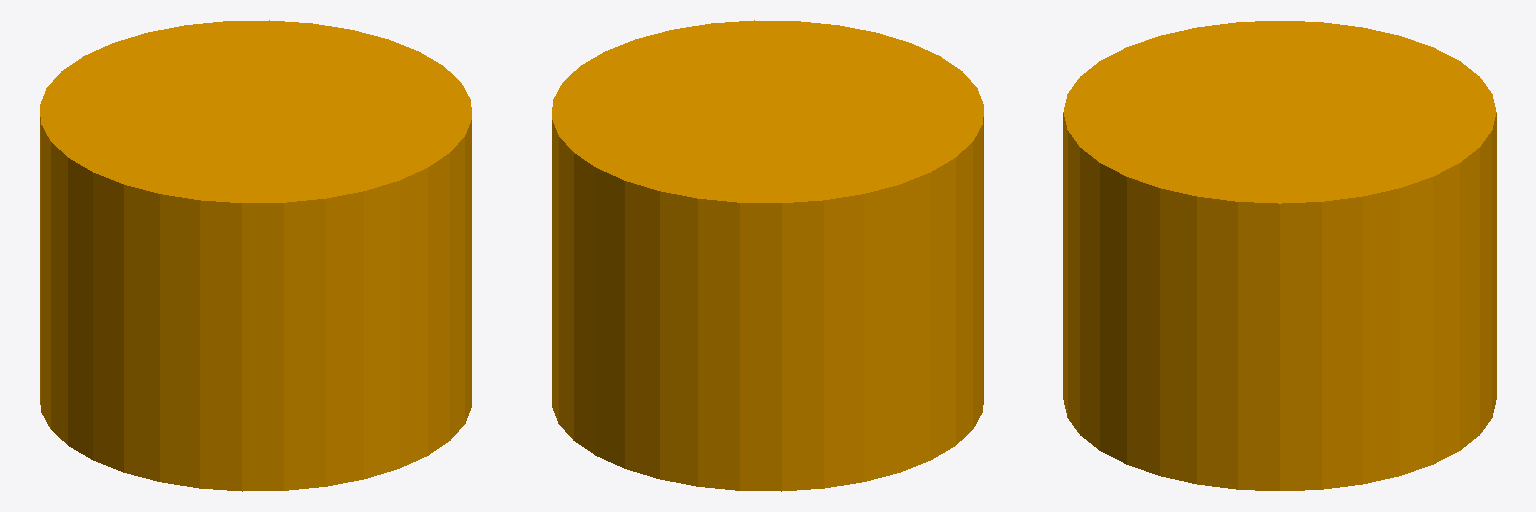
robot.urdf — small_box_chair:
<?xml version="1.0" ?>
<robot name="small_box_chair">
    <link name="baseLink">
        <contact>
            <lateral_friction value="1.0"/>
            <rolling_friction value="0.0"/>
            <contact_cfm value="0.0"/>
            <contact_erp value="1.0"/>
        </contact>
        <inertial>
            <origin rpy="0 0 0" xyz="0 0 0"/>
            <mass value="1.0"/>
            <inertia ixx="1" ixy="0" ixz="0" iyy="1" iyz="0" izz="1"/>
        </inertial>
        <visual>
            <origin rpy="0 0 0" xyz="1.55 -0.73 0.11"/>
            <geometry>
                <!-- <box size="6 6 1"/> -->
                <cylinder radius="0.15" length="0.22"/>
            </geometry>
        </visual>
        <collision>
            <origin rpy="0 0 0" xyz="1.55 -0.73 0.11"/>
            <geometry>
                <!-- <box size="6 6 1"/> -->
                <cylinder radius="0.15" length="0.22"/>
            </geometry>
        </collision>
    </link>
</robot>

--- Render facts (derived) ---
3 views of the same robot in one strip: view 1: azimuth 30°, elevation 25°; view 2: azimuth 150°, elevation 25°; view 3: azimuth 270°, elevation 25° (orthographic).
Model small_box_chair with 1 links and 0 joints (none), rooted at baseLink, posed every joint at zero.
Links seen in each view (by area): view 1: baseLink; view 2: baseLink; view 3: baseLink.
Boxes of the visible links, x1=… form: baseLink: x1=40, y1=20, x2=471, y2=491; baseLink: x1=552, y1=20, x2=983, y2=491; baseLink: x1=1063, y1=21, x2=1496, y2=490.
Size in the robot's own frame: 0.3 by 0.3 by 0.22 metres.
Geometry: primitives only (box / cylinder / sphere), no mesh files.